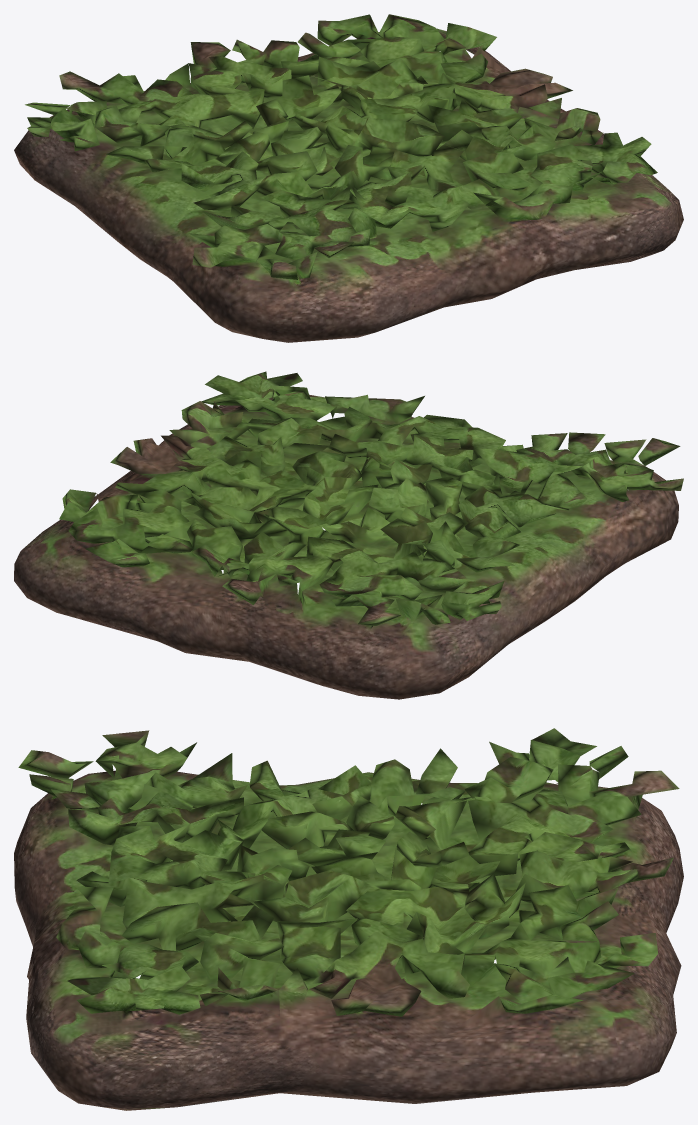
File: Plot_cress_plot.glb
3 views of the same model, one above another, from view 1: azimuth 30°, elevation 25°; view 2: azimuth 150°, elevation 25°; view 3: azimuth 270°, elevation 25° (orthographic). The views are drawn at different scales.
Visible parts, largest first — view 1: tripo_node_9473497a-50b8-4b2d-a391-470e0574e630; view 2: tripo_node_9473497a-50b8-4b2d-a391-470e0574e630; view 3: tripo_node_9473497a-50b8-4b2d-a391-470e0574e630.
Part boxes in pixels (bbox=[...]): tripo_node_9473497a-50b8-4b2d-a391-470e0574e630: bbox=[14, 14, 683, 342]; tripo_node_9473497a-50b8-4b2d-a391-470e0574e630: bbox=[14, 371, 683, 699]; tripo_node_9473497a-50b8-4b2d-a391-470e0574e630: bbox=[14, 728, 683, 1110].
Size of the model in its own units: 0.9947 by 0.2104 by 0.9726.
1 material, 1 textured.
